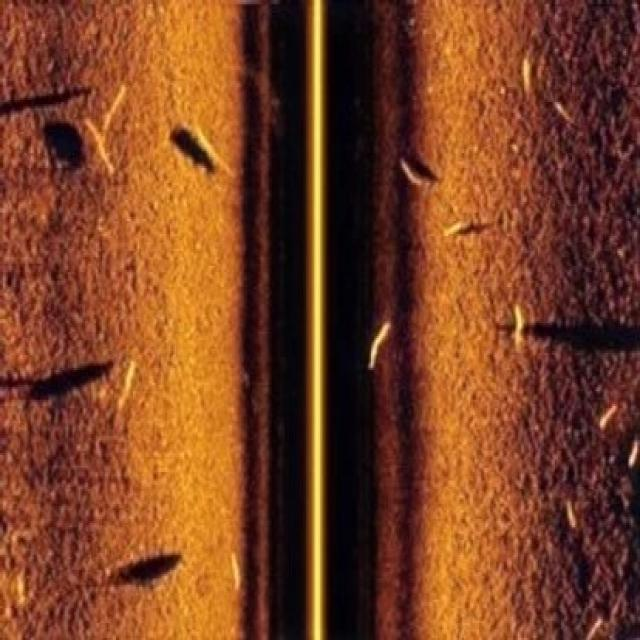fish: (172, 117, 230, 176), (91, 79, 127, 166), (80, 115, 114, 172), (363, 319, 391, 368), (114, 359, 136, 408), (396, 155, 425, 187), (509, 300, 524, 349), (597, 398, 617, 430), (518, 53, 532, 96), (442, 215, 469, 236), (227, 551, 240, 593), (561, 496, 577, 528)
